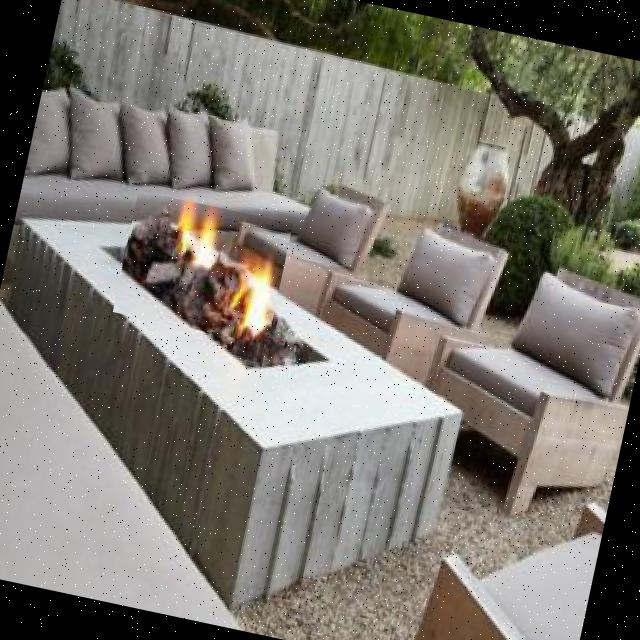fire: (112, 190, 292, 344)
